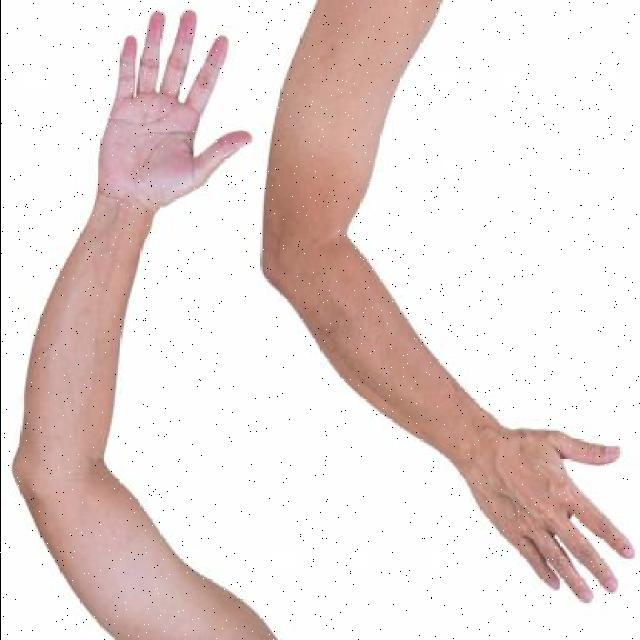no_apron: (461, 410, 631, 596), (106, 5, 242, 209)
